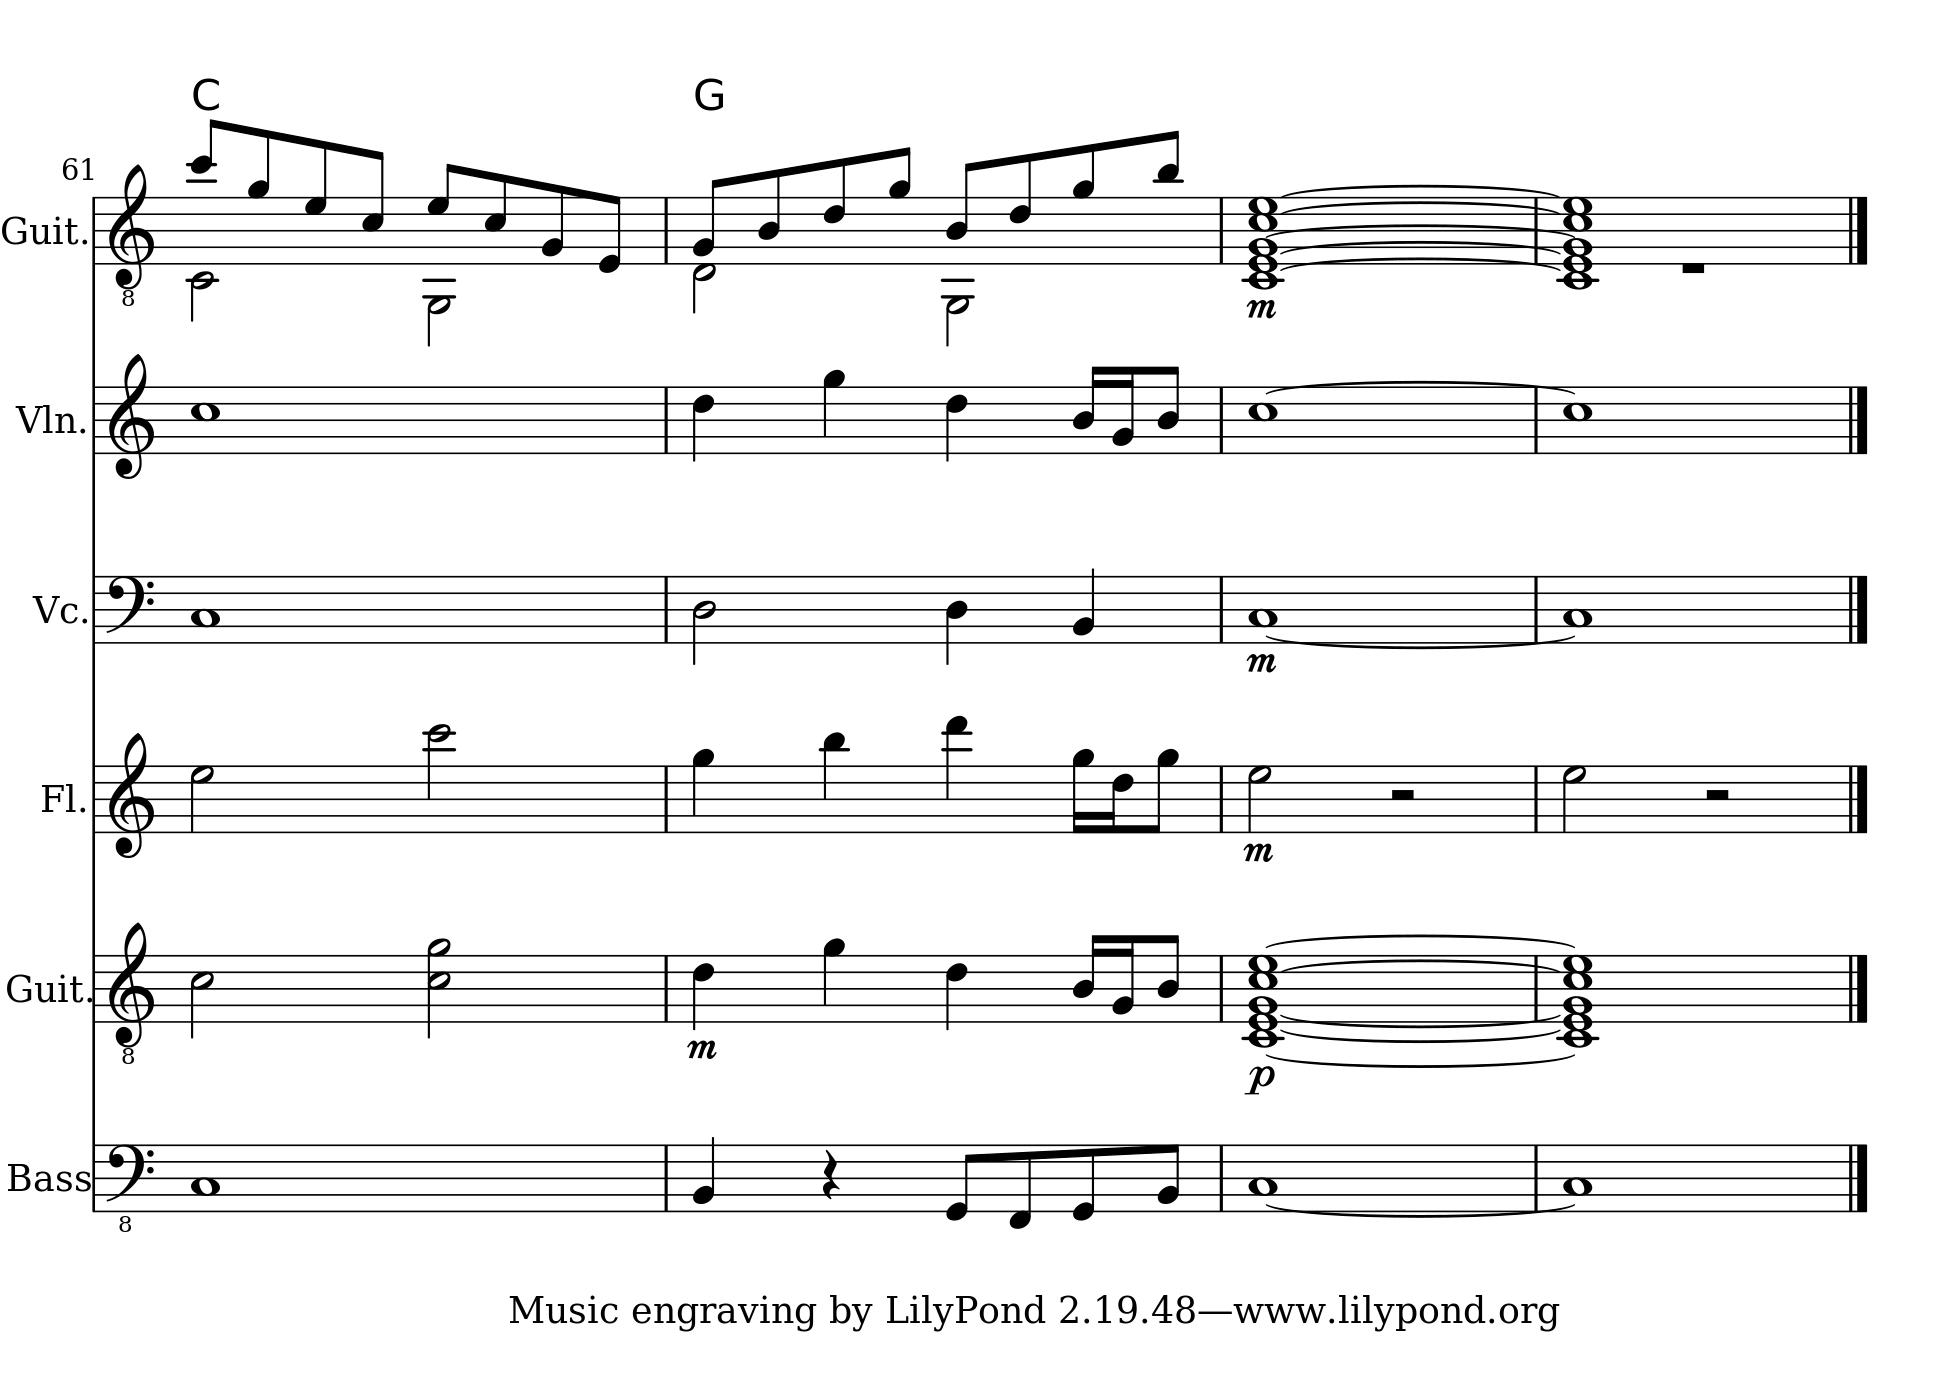1: (81, 153, 94, 184)
16_2: (1111, 931, 1137, 1023), (1111, 364, 1137, 454)
16_4: (1071, 363, 1104, 454), (1071, 931, 1104, 1023)
16_6: (1104, 763, 1134, 835)
16_9: (1071, 745, 1095, 835)
1_3: (189, 571, 222, 646), (1561, 571, 1593, 645), (1561, 1140, 1593, 1213), (189, 1141, 220, 1213), (1248, 571, 1278, 645), (1246, 1141, 1276, 1213)
1_5: (187, 384, 220, 456), (1563, 384, 1594, 454), (1248, 384, 1278, 454)
1_5th: (1558, 952, 1599, 1051), (1243, 193, 1282, 289), (1558, 195, 1596, 291), (1243, 951, 1281, 1047)
2_-2: (187, 195, 214, 322)
2_12: (424, 721, 456, 835)
2_4: (690, 573, 715, 664)
2_5: (187, 952, 214, 1039)
2_7: (1245, 763, 1273, 835), (1560, 763, 1588, 835), (187, 762, 214, 834)
4_13: (940, 712, 970, 835)
4_2: (691, 1134, 718, 1213), (1072, 565, 1098, 643)
4_4: (943, 571, 969, 664)
4_6: (690, 382, 715, 462), (690, 952, 715, 1030), (943, 382, 967, 463), (943, 952, 967, 1032)
4_9: (690, 745, 715, 834), (820, 366, 844, 454), (820, 934, 844, 1023)
6: (61, 153, 79, 183)
8_-1: (1006, 1141, 1035, 1231)
8_0: (943, 1141, 978, 1222), (595, 190, 625, 274), (1069, 1141, 1098, 1222)
8_11: (1153, 127, 1183, 268), (819, 727, 847, 834)
8_12: (189, 115, 220, 270)
8_2: (691, 177, 727, 264), (538, 181, 565, 265), (1156, 1141, 1182, 1213)
8_4: (945, 160, 978, 265), (754, 166, 781, 265), (1156, 931, 1182, 1024), (1156, 363, 1182, 454)
8_5: (360, 147, 385, 265), (483, 169, 508, 265)
8_6: (820, 154, 847, 265), (1008, 151, 1033, 265)
8_7: (301, 139, 328, 265), (424, 160, 456, 264)
8_9: (244, 127, 270, 265), (886, 144, 912, 265), (1144, 747, 1179, 835), (1071, 141, 1095, 265)
Bass: (1, 1158, 93, 1197)
Fclef: (106, 571, 154, 643)
Final_barline: (1843, 574, 1872, 643), (1843, 763, 1872, 832), (1843, 195, 1872, 262), (1843, 954, 1872, 1021), (1845, 385, 1872, 453), (1845, 1141, 1870, 1210)
Fl: (36, 778, 78, 817)
Gclef: (106, 730, 157, 859), (105, 351, 156, 478)
Guit: (3, 966, 84, 1009), (1, 208, 81, 252)
Lower_Fclef: (102, 1141, 154, 1231)
Lower_Gclef: (105, 919, 156, 1063), (106, 163, 154, 306)
Rests1: (1677, 256, 1708, 277)
Rests2: (1701, 784, 1734, 805), (1386, 784, 1419, 804)
Rests4: (819, 1147, 841, 1201)
Single_barline: (658, 763, 678, 832), (1212, 574, 1231, 642), (1527, 196, 1546, 261), (658, 574, 676, 643), (1213, 763, 1231, 832), (658, 385, 676, 453), (1212, 1143, 1230, 1210), (1527, 574, 1545, 640), (1527, 388, 1545, 453), (85, 385, 102, 453), (1213, 385, 1230, 453), (1528, 765, 1545, 832), (658, 954, 675, 1021), (658, 196, 675, 262), (1528, 1144, 1545, 1209), (87, 196, 102, 265), (87, 763, 102, 832), (87, 952, 102, 1021), (1215, 952, 1230, 1021), (1215, 196, 1230, 264), (87, 576, 102, 643), (88, 1143, 103, 1210), (658, 1144, 673, 1210), (1530, 955, 1545, 1020)
Slur: (1278, 1026, 1560, 1045), (1263, 933, 1576, 949), (1263, 1053, 1575, 1069), (1276, 238, 1564, 255), (1263, 1204, 1573, 1219), (1264, 223, 1573, 238), (1278, 256, 1566, 271), (1264, 636, 1578, 649), (1278, 1012, 1558, 1027), (1279, 181, 1558, 196), (1266, 379, 1575, 393), (1278, 202, 1558, 214), (1278, 958, 1558, 970)
Vln: (13, 397, 76, 442)
m: (682, 1036, 720, 1065), (1243, 649, 1278, 675), (1245, 295, 1278, 319)
mp: (1240, 838, 1275, 864)
p: (1242, 1063, 1275, 1096)
